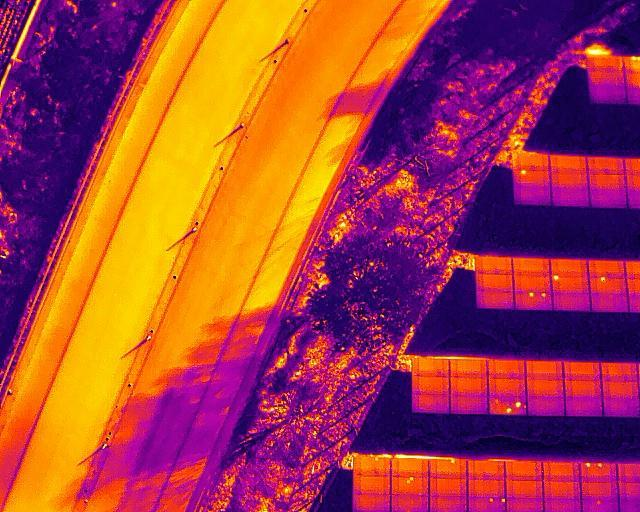Cell: (549, 274, 589, 293), (588, 276, 628, 294), (428, 460, 467, 478), (352, 457, 390, 475), (513, 170, 550, 185), (581, 499, 619, 512)
Cell-Multi: (579, 462, 618, 483), (513, 291, 553, 310), (391, 476, 429, 496), (487, 397, 527, 415), (466, 496, 506, 512)
No-Anomaly: (487, 377, 527, 397), (449, 376, 488, 396), (563, 360, 602, 380), (541, 462, 580, 482), (589, 293, 630, 312), (513, 184, 550, 205), (412, 393, 450, 413), (526, 359, 564, 379), (449, 395, 488, 414), (526, 379, 565, 398), (411, 375, 450, 394), (601, 362, 640, 381), (551, 292, 590, 311), (542, 480, 581, 499), (475, 290, 514, 309), (428, 477, 467, 496), (352, 475, 391, 494), (505, 460, 542, 480), (488, 359, 526, 378), (504, 480, 542, 499), (474, 256, 512, 275), (466, 460, 504, 479), (412, 358, 449, 377), (564, 381, 603, 399), (449, 359, 488, 377), (466, 478, 505, 496), (511, 257, 550, 275), (527, 398, 565, 416), (602, 381, 640, 399), (580, 482, 618, 500), (587, 173, 625, 191), (550, 171, 588, 189), (390, 459, 428, 477), (353, 494, 391, 512), (549, 189, 589, 206), (603, 398, 640, 416), (564, 398, 603, 415), (587, 260, 626, 277), (548, 258, 587, 275), (588, 190, 627, 207), (548, 155, 587, 172), (512, 274, 550, 291), (391, 495, 429, 512), (476, 274, 513, 291), (587, 156, 624, 173), (590, 86, 627, 103), (588, 69, 625, 86), (428, 496, 467, 512), (513, 154, 549, 170), (506, 498, 544, 512), (543, 499, 582, 512), (586, 56, 622, 69)
